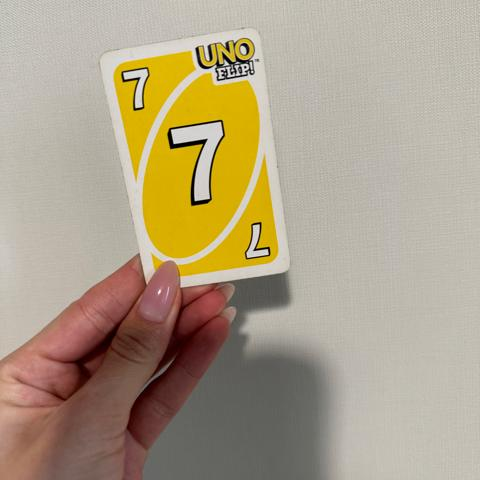lyellow-7: (115, 55, 169, 117)
